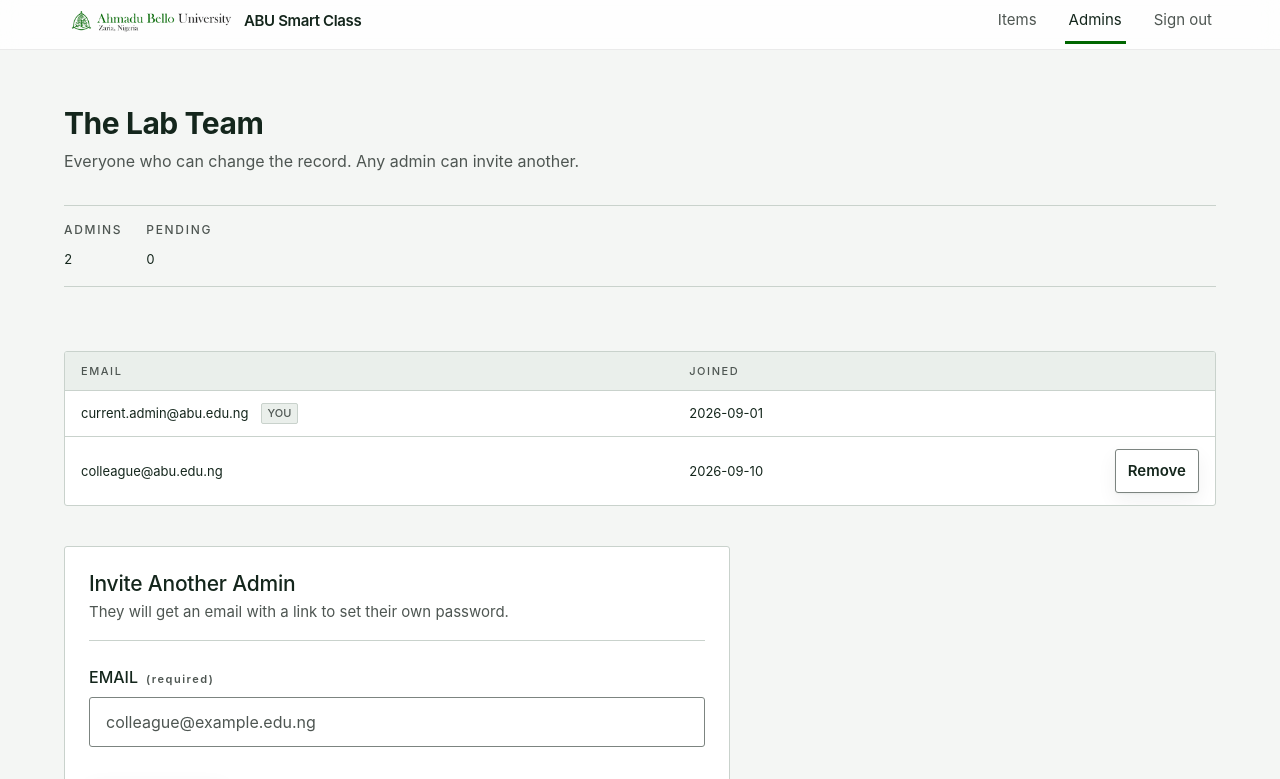
S-05 Challenger Suite — M2 Pre-Agreed Seams › Seam 1: S-008 Admin Team Management & Invites (app/admin/admins/page.tsx & lib/admin-api.ts) › successful invite increments PENDING count, displays success banner with recipient, and clears input
Expected: the text "colleague@abu.edu.ng" is shown, 81,462 -> 223,481
Type "invited.peer@abu.edu.ng" into the field with placeholder "colleague@example.edu.ng" at (397, 722), box 89,697 -> 705,747
(page scrolled)
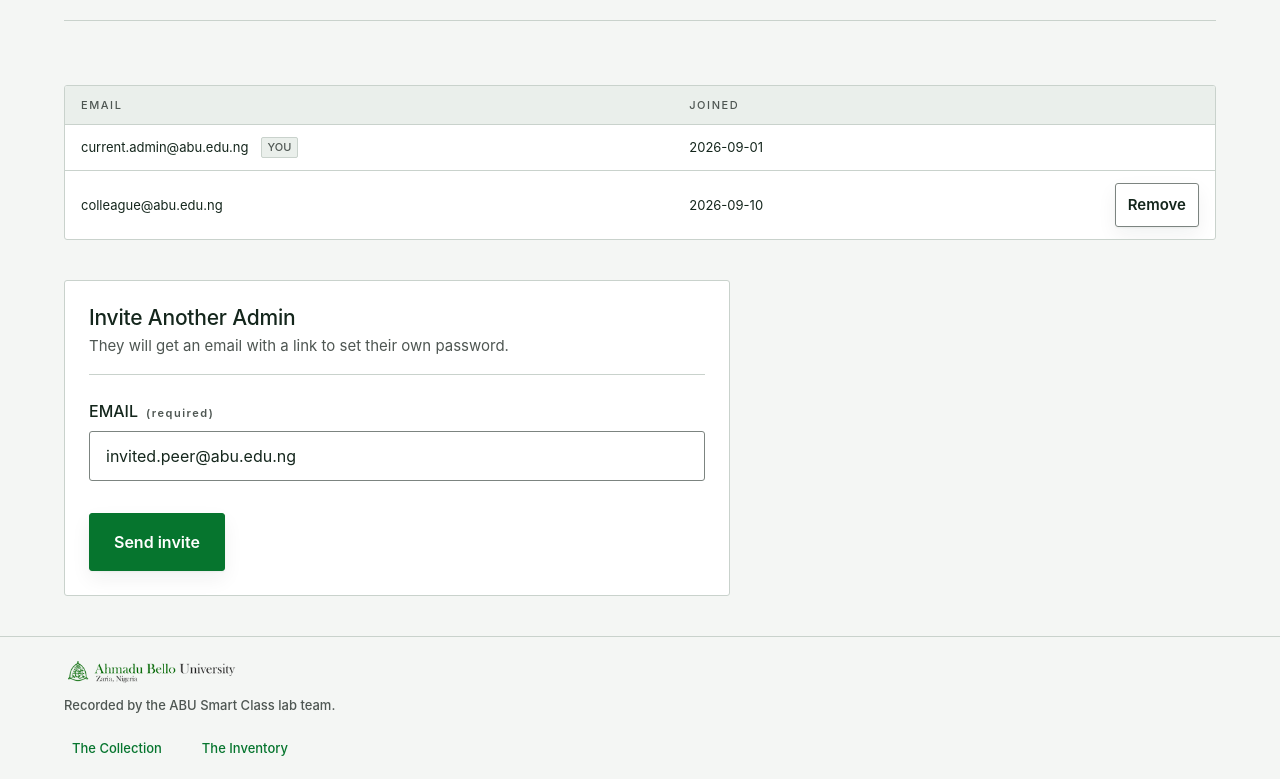
Click the button "Send invite" at (157, 542), box 89,513 -> 225,571
(page scrolled)
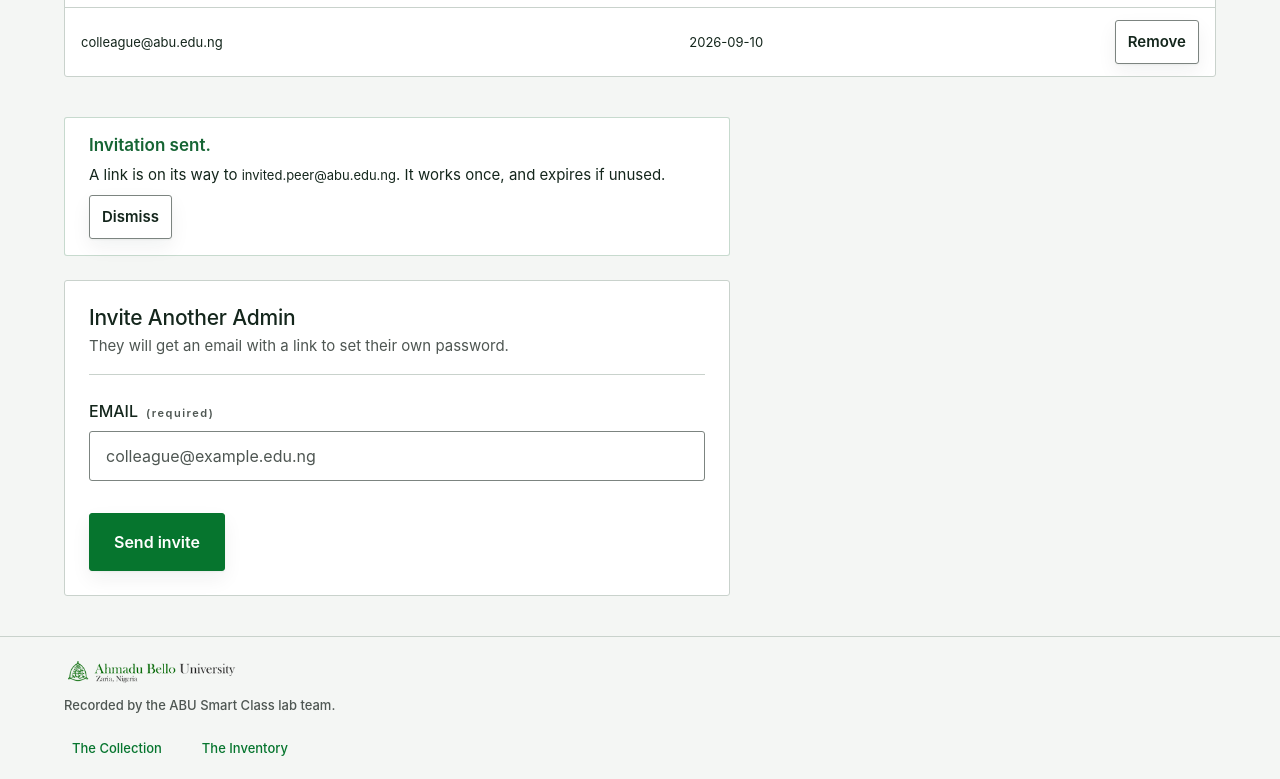
Result: the heading "Invitation sent." is shown at 89,135 -> 211,155
Result: the text "A link is on its way to" is shown at 89,165 -> 237,184
Result: the text "It works once, and expires if unused" is shown at 396,165 -> 665,184
